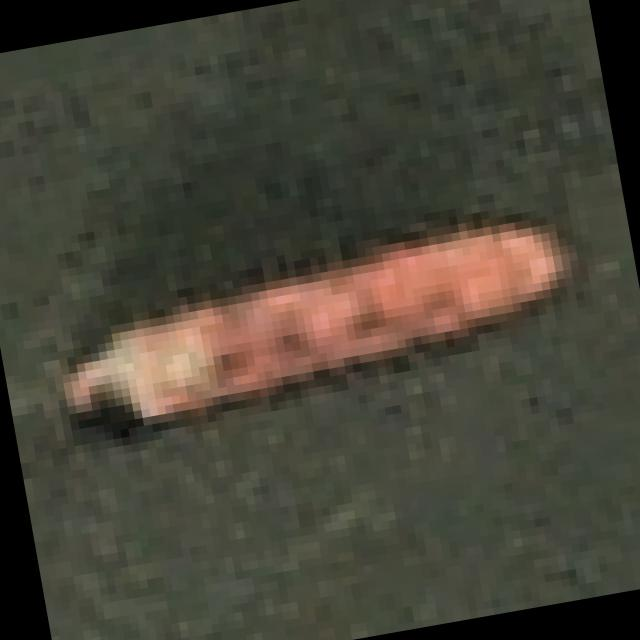ship: (14, 138, 594, 459)
